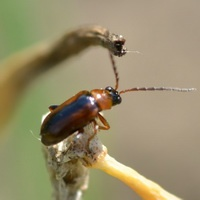insect: (40, 55, 147, 146)
